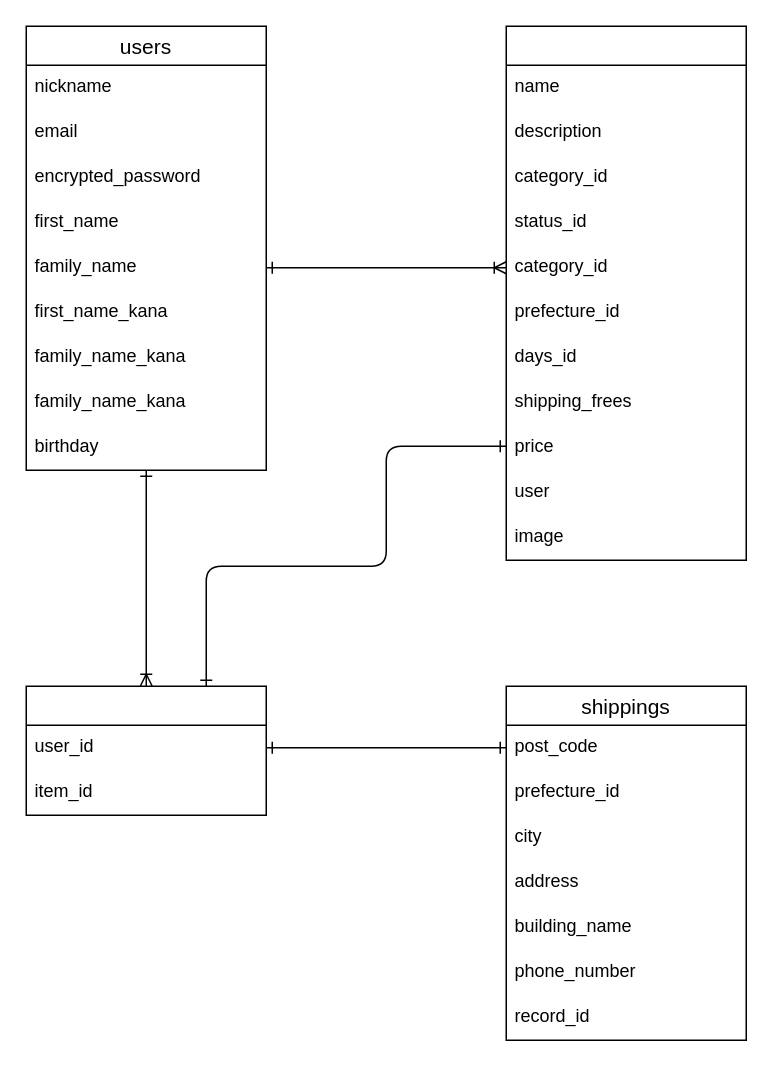
This 773x1071 diagram has some shape labels left out. The shapes that lost their labels are listed below. From the top down, each one's box as (x1, y1, x2, y2) in pixels, then its label:
(505, 25, 746, 560): items
(25, 685, 266, 815): records
